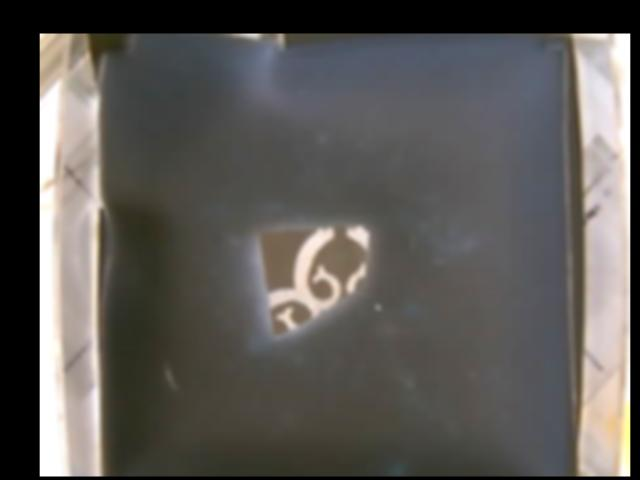China: (259, 224, 367, 337)
